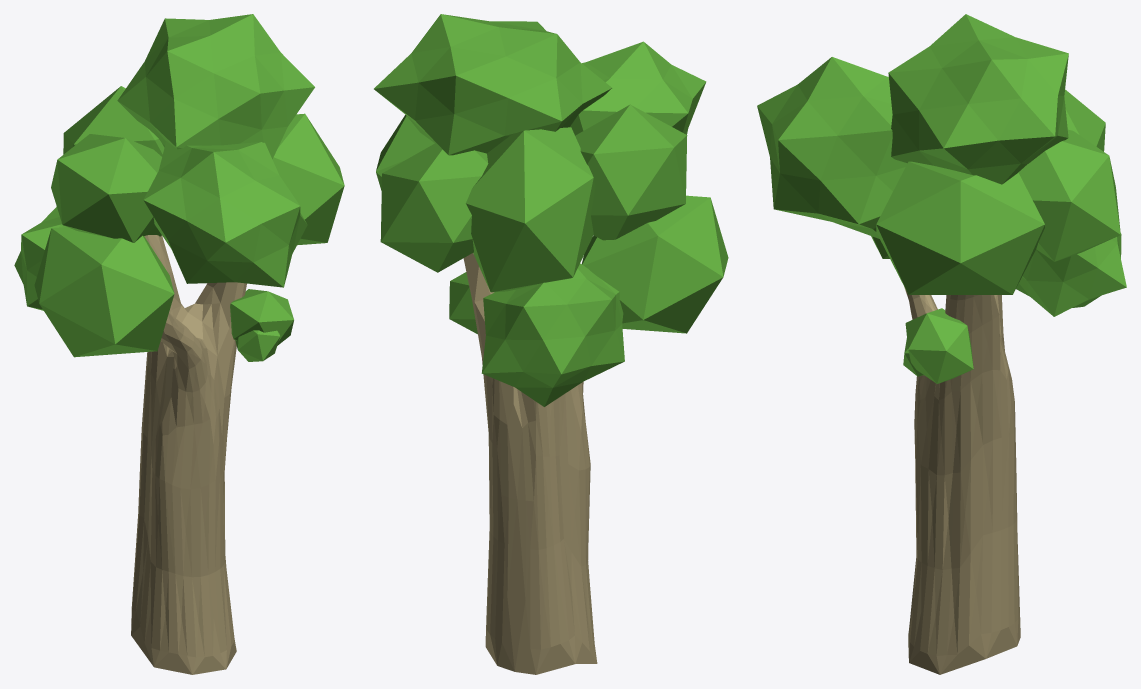
The model's file is Tree.glb.
3 renders of one model, left to right at view 1: azimuth 30°, elevation 25°; view 2: azimuth 150°, elevation 25°; view 3: azimuth 270°, elevation 25°, orthographic. The views are drawn at different scales.
Visible parts, largest first — view 1: Leaves; view 2: Leaves; view 3: Leaves.
Part boxes in pixels (<box>): Leaves: <box>14,14,344,674</box>; Leaves: <box>374,14,728,674</box>; Leaves: <box>757,14,1126,674</box>.
Size of the model in its own units: 3.75 by 6.98 by 3.67.
